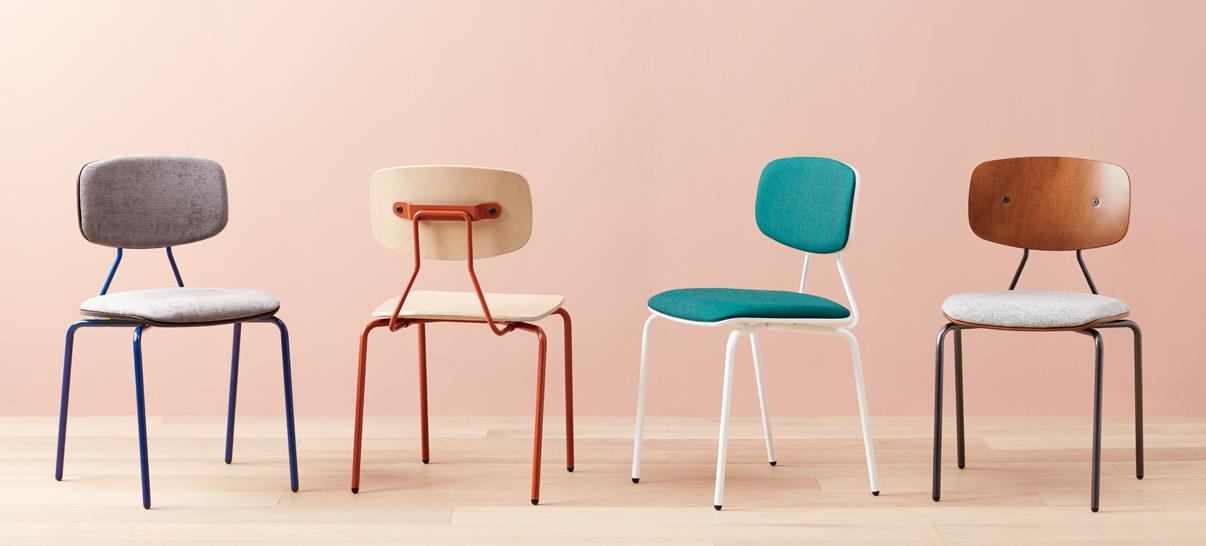chair: (43, 124, 324, 508), (626, 137, 893, 514), (910, 130, 1163, 527), (343, 135, 610, 509)
